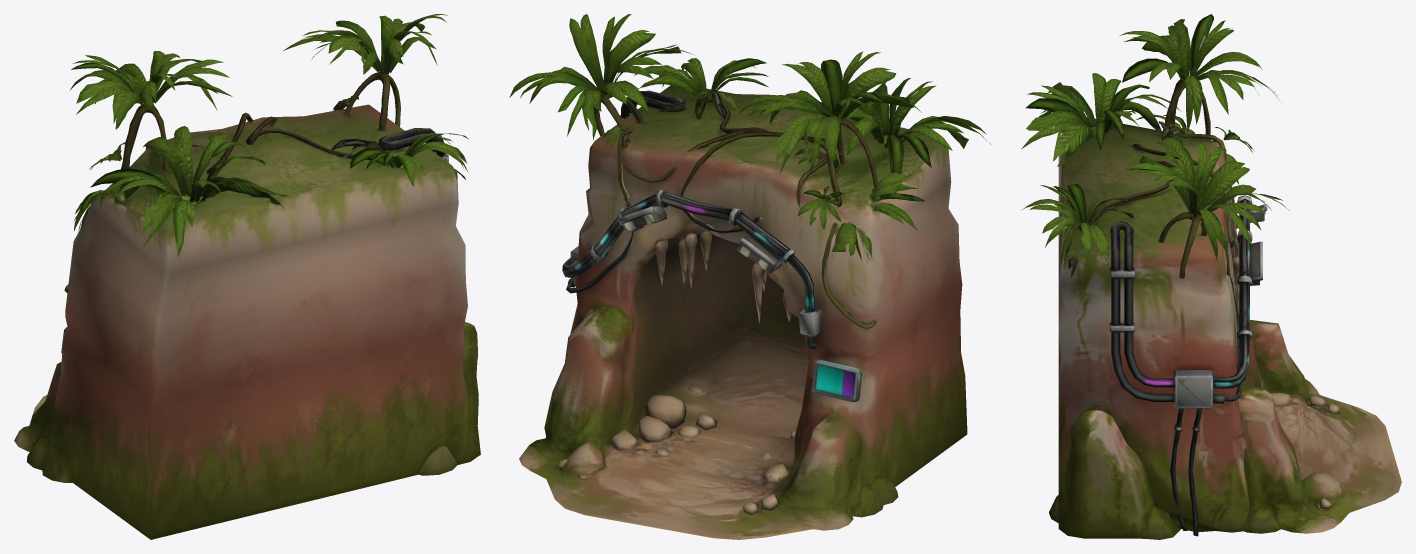
The model's file is cave_mouth.glb.
3 views of the same model, side by side, from view 1: azimuth 30°, elevation 25°; view 2: azimuth 150°, elevation 25°; view 3: azimuth 270°, elevation 25° (orthographic). The views are drawn at different scales.
Parts seen in each view (by area): view 1: Body; view 2: Body; view 3: Body.
Boxes of the visible parts, box(x1,y1,x2,y2) form: Body: box(14, 14, 480, 539); Body: box(509, 14, 991, 539); Body: box(1021, 14, 1401, 539).
Bounding box in the file's own units: 20 × 20.16 × 18.34.
Materials: 1 (1 with a texture image).
